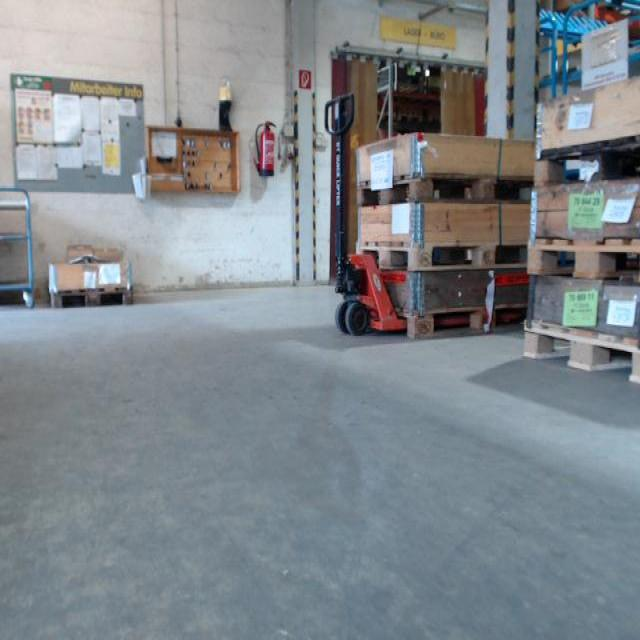pallet: (522, 315, 640, 387), (355, 238, 532, 275), (356, 173, 534, 209), (532, 133, 640, 191), (525, 236, 640, 286), (405, 300, 528, 342), (49, 285, 133, 311)
pallet_truck: (318, 83, 473, 335)
